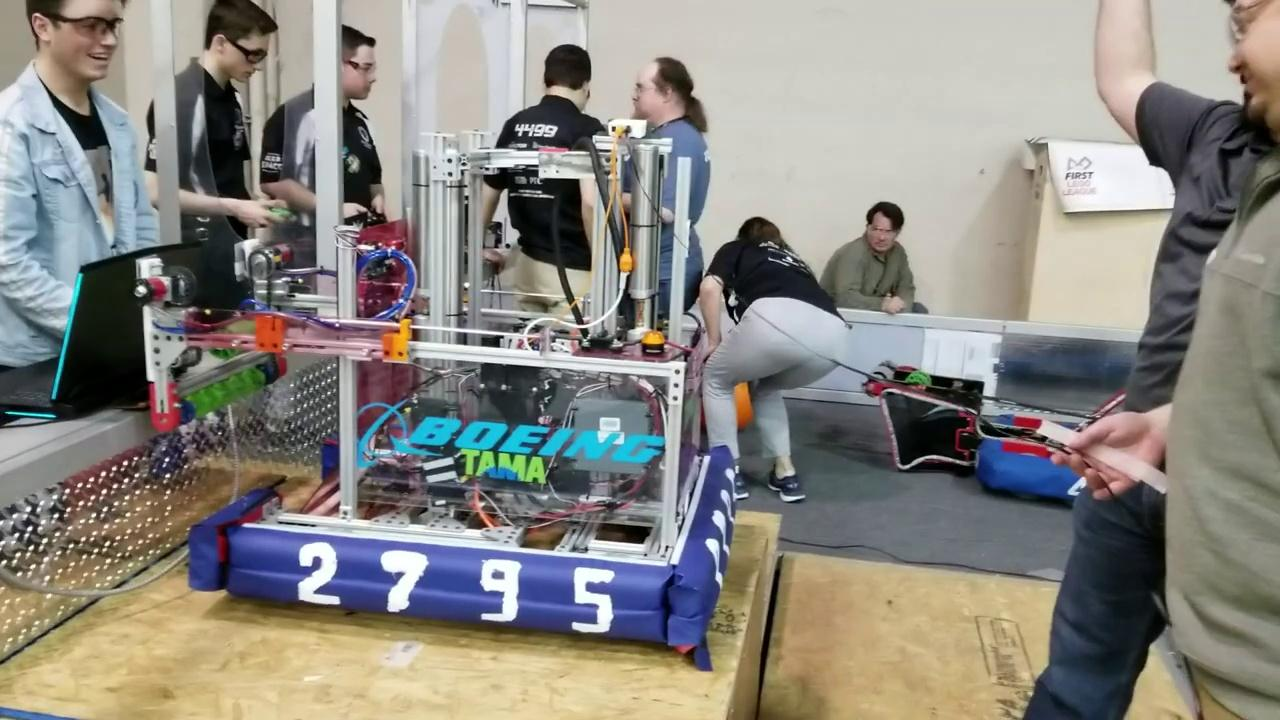robot: (135, 113, 740, 652)
